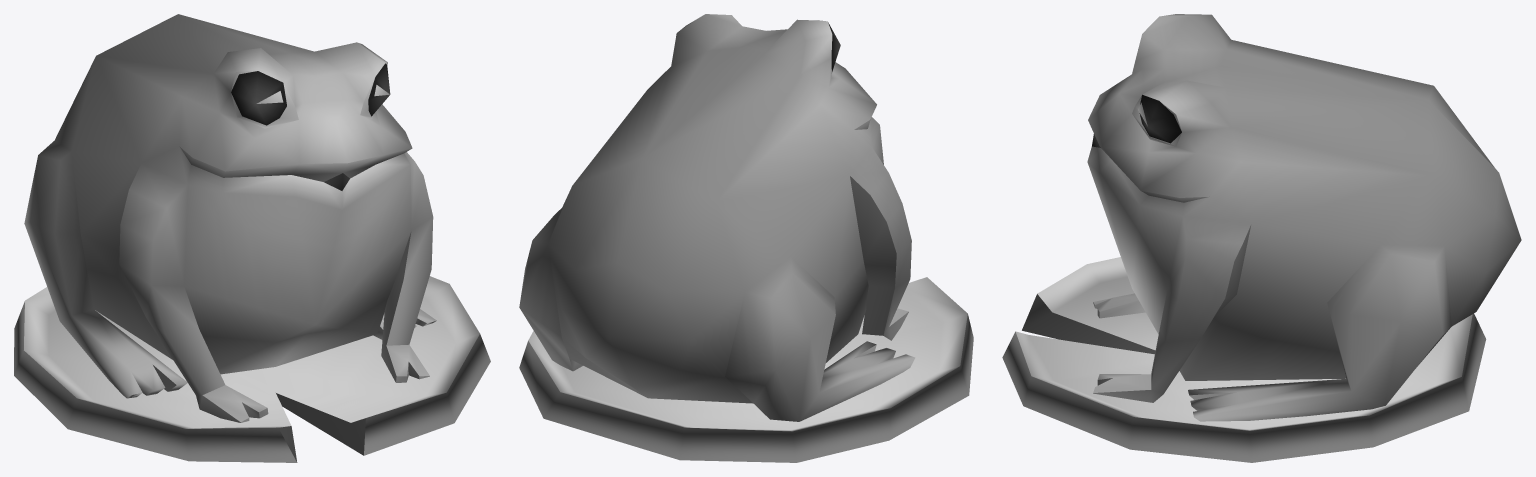
File: SK_Frog_001.FBX
3 views of the same model, side by side, from view 1: azimuth 30°, elevation 25°; view 2: azimuth 150°, elevation 25°; view 3: azimuth 270°, elevation 25° (orthographic). The views are drawn at different scales.
Parts seen in each view (by area): view 1: SK_Frog_001; view 2: SK_Frog_001; view 3: SK_Frog_001.
Boxes of the visible parts, <box> form: SK_Frog_001: <box>14,14,490,462</box>; SK_Frog_001: <box>519,14,973,462</box>; SK_Frog_001: <box>1002,14,1521,462</box>.
Size of the model in its own units: 32.68 by 26.5 by 36.
1 material, 1 textured.
